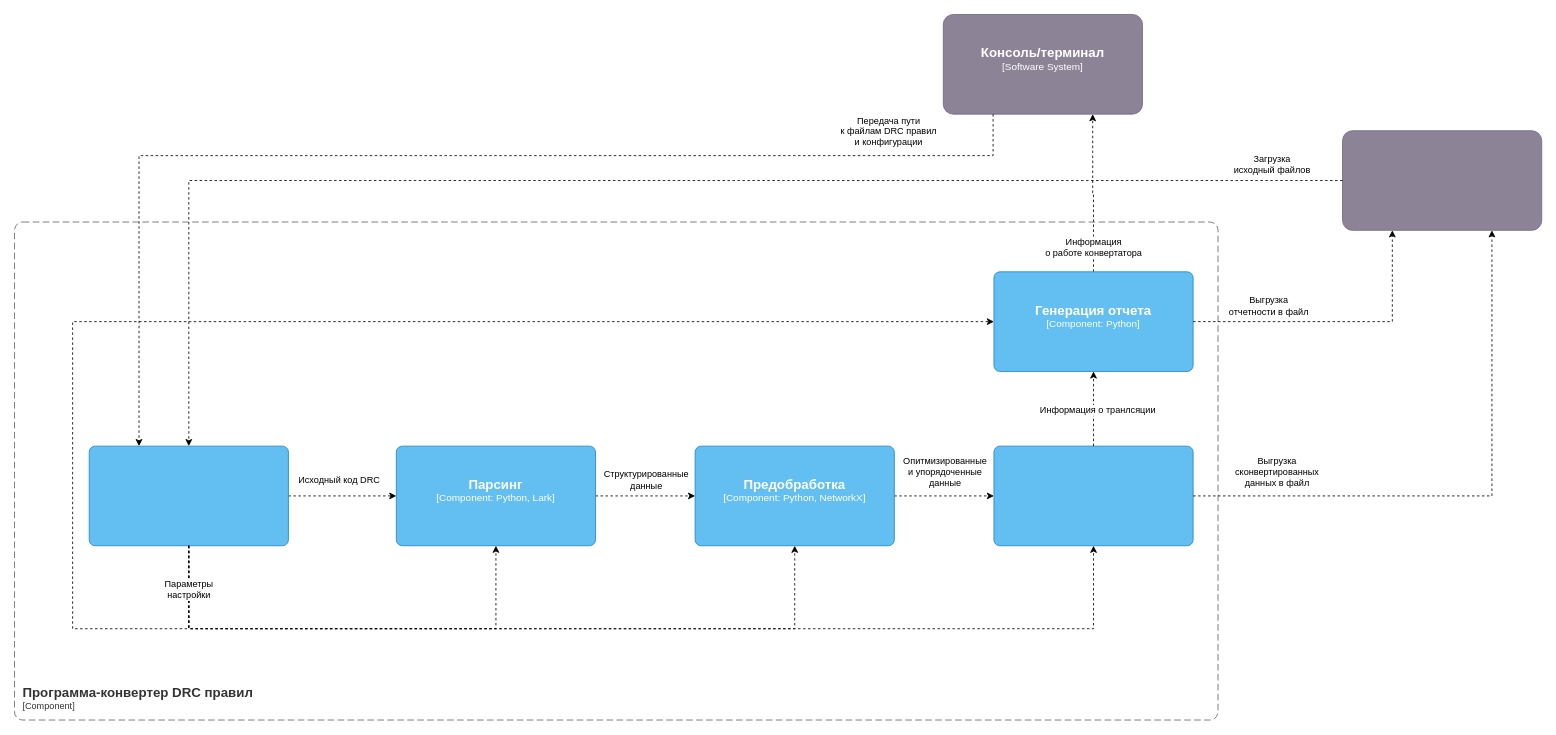
This 1556x735 diagram has some shape labels left out. Each missing label, with the centre of its shape:
Конвертация [Component: Python]: [1093,495]
Обработка пользовательского ввода [Component: Python, argparser, configparser]: [188,495]
Файловая система ОС [Software System]: [1442,180]
